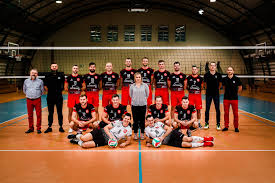ball: (107, 137, 118, 149), (151, 137, 162, 148)
